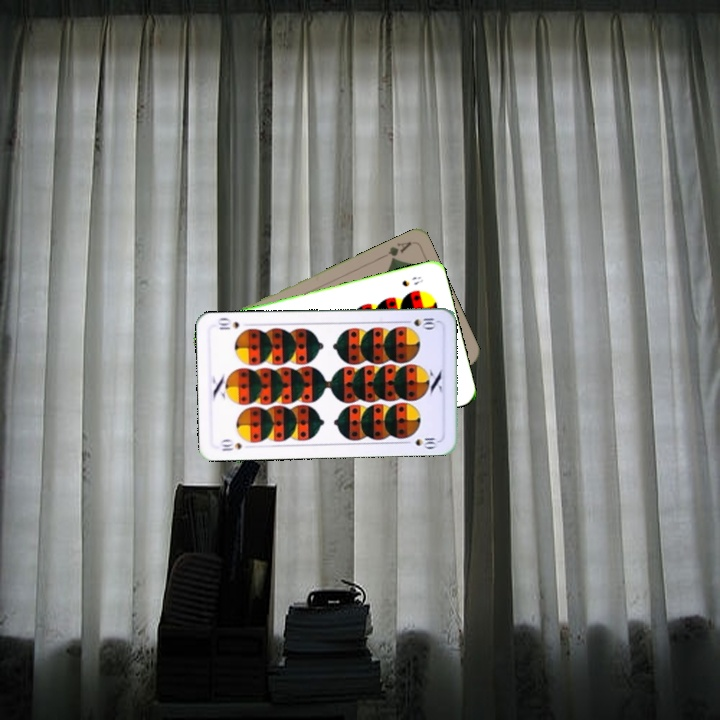GA: (384, 237, 414, 264)
S10: (399, 314, 440, 330), (217, 436, 244, 454)
S8: (398, 272, 426, 289)
